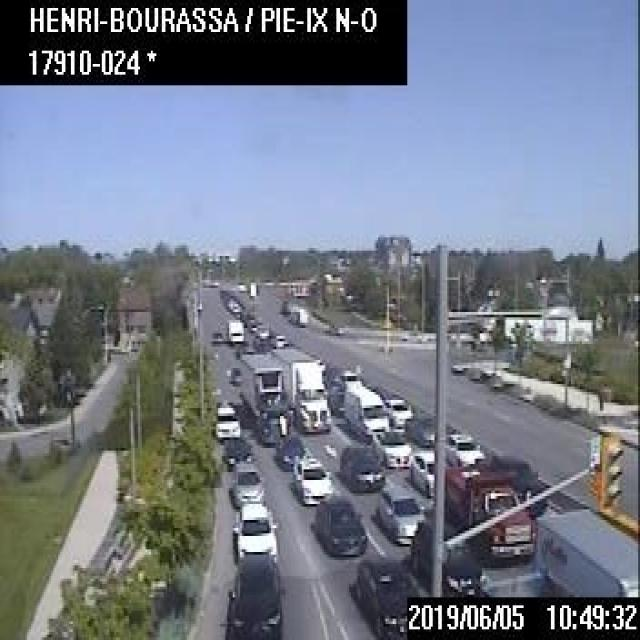vehicle: (534, 505, 638, 596), (443, 465, 535, 561), (409, 518, 478, 594), (355, 556, 418, 637), (271, 347, 330, 432), (225, 552, 282, 637), (240, 351, 282, 421), (314, 498, 365, 554), (376, 484, 424, 543), (231, 501, 276, 558), (342, 385, 387, 438), (339, 445, 383, 490), (292, 456, 331, 502), (229, 459, 264, 505), (371, 429, 410, 467), (444, 431, 484, 464), (408, 450, 433, 494), (220, 436, 252, 469), (275, 434, 303, 469), (406, 410, 433, 446), (255, 406, 282, 442), (212, 404, 240, 437), (382, 396, 412, 424), (327, 382, 343, 414), (225, 318, 242, 342), (289, 307, 306, 325), (269, 332, 287, 346), (334, 368, 356, 379), (254, 323, 268, 337), (210, 331, 223, 344), (230, 366, 240, 382), (246, 318, 259, 330)
